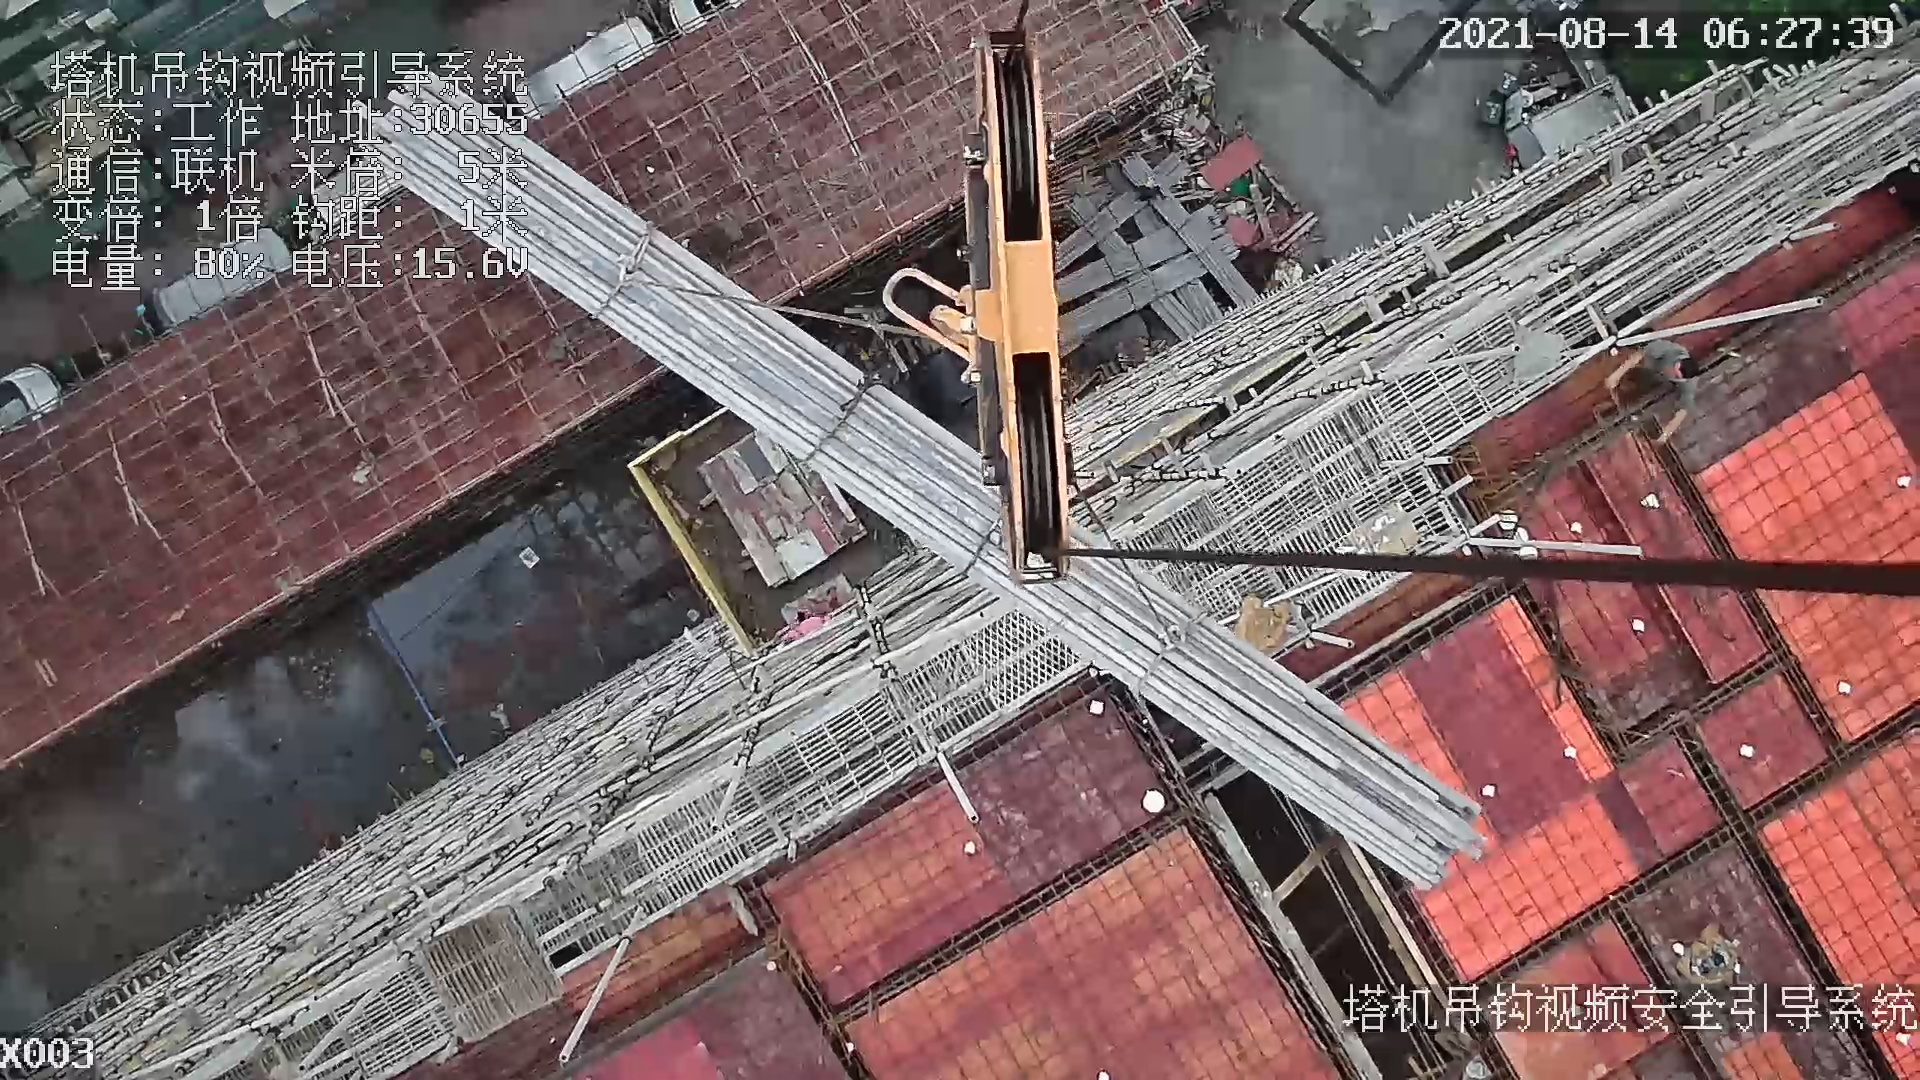hook: (958, 32, 1074, 589)
person: (1604, 326, 1701, 449)
